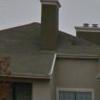Chimney: (37, 2, 62, 51)
